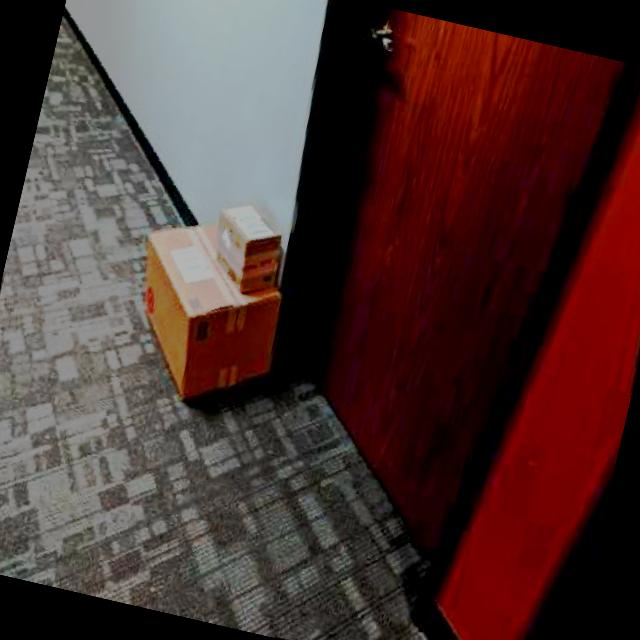Box: (106, 196, 310, 425), (198, 190, 300, 304)
